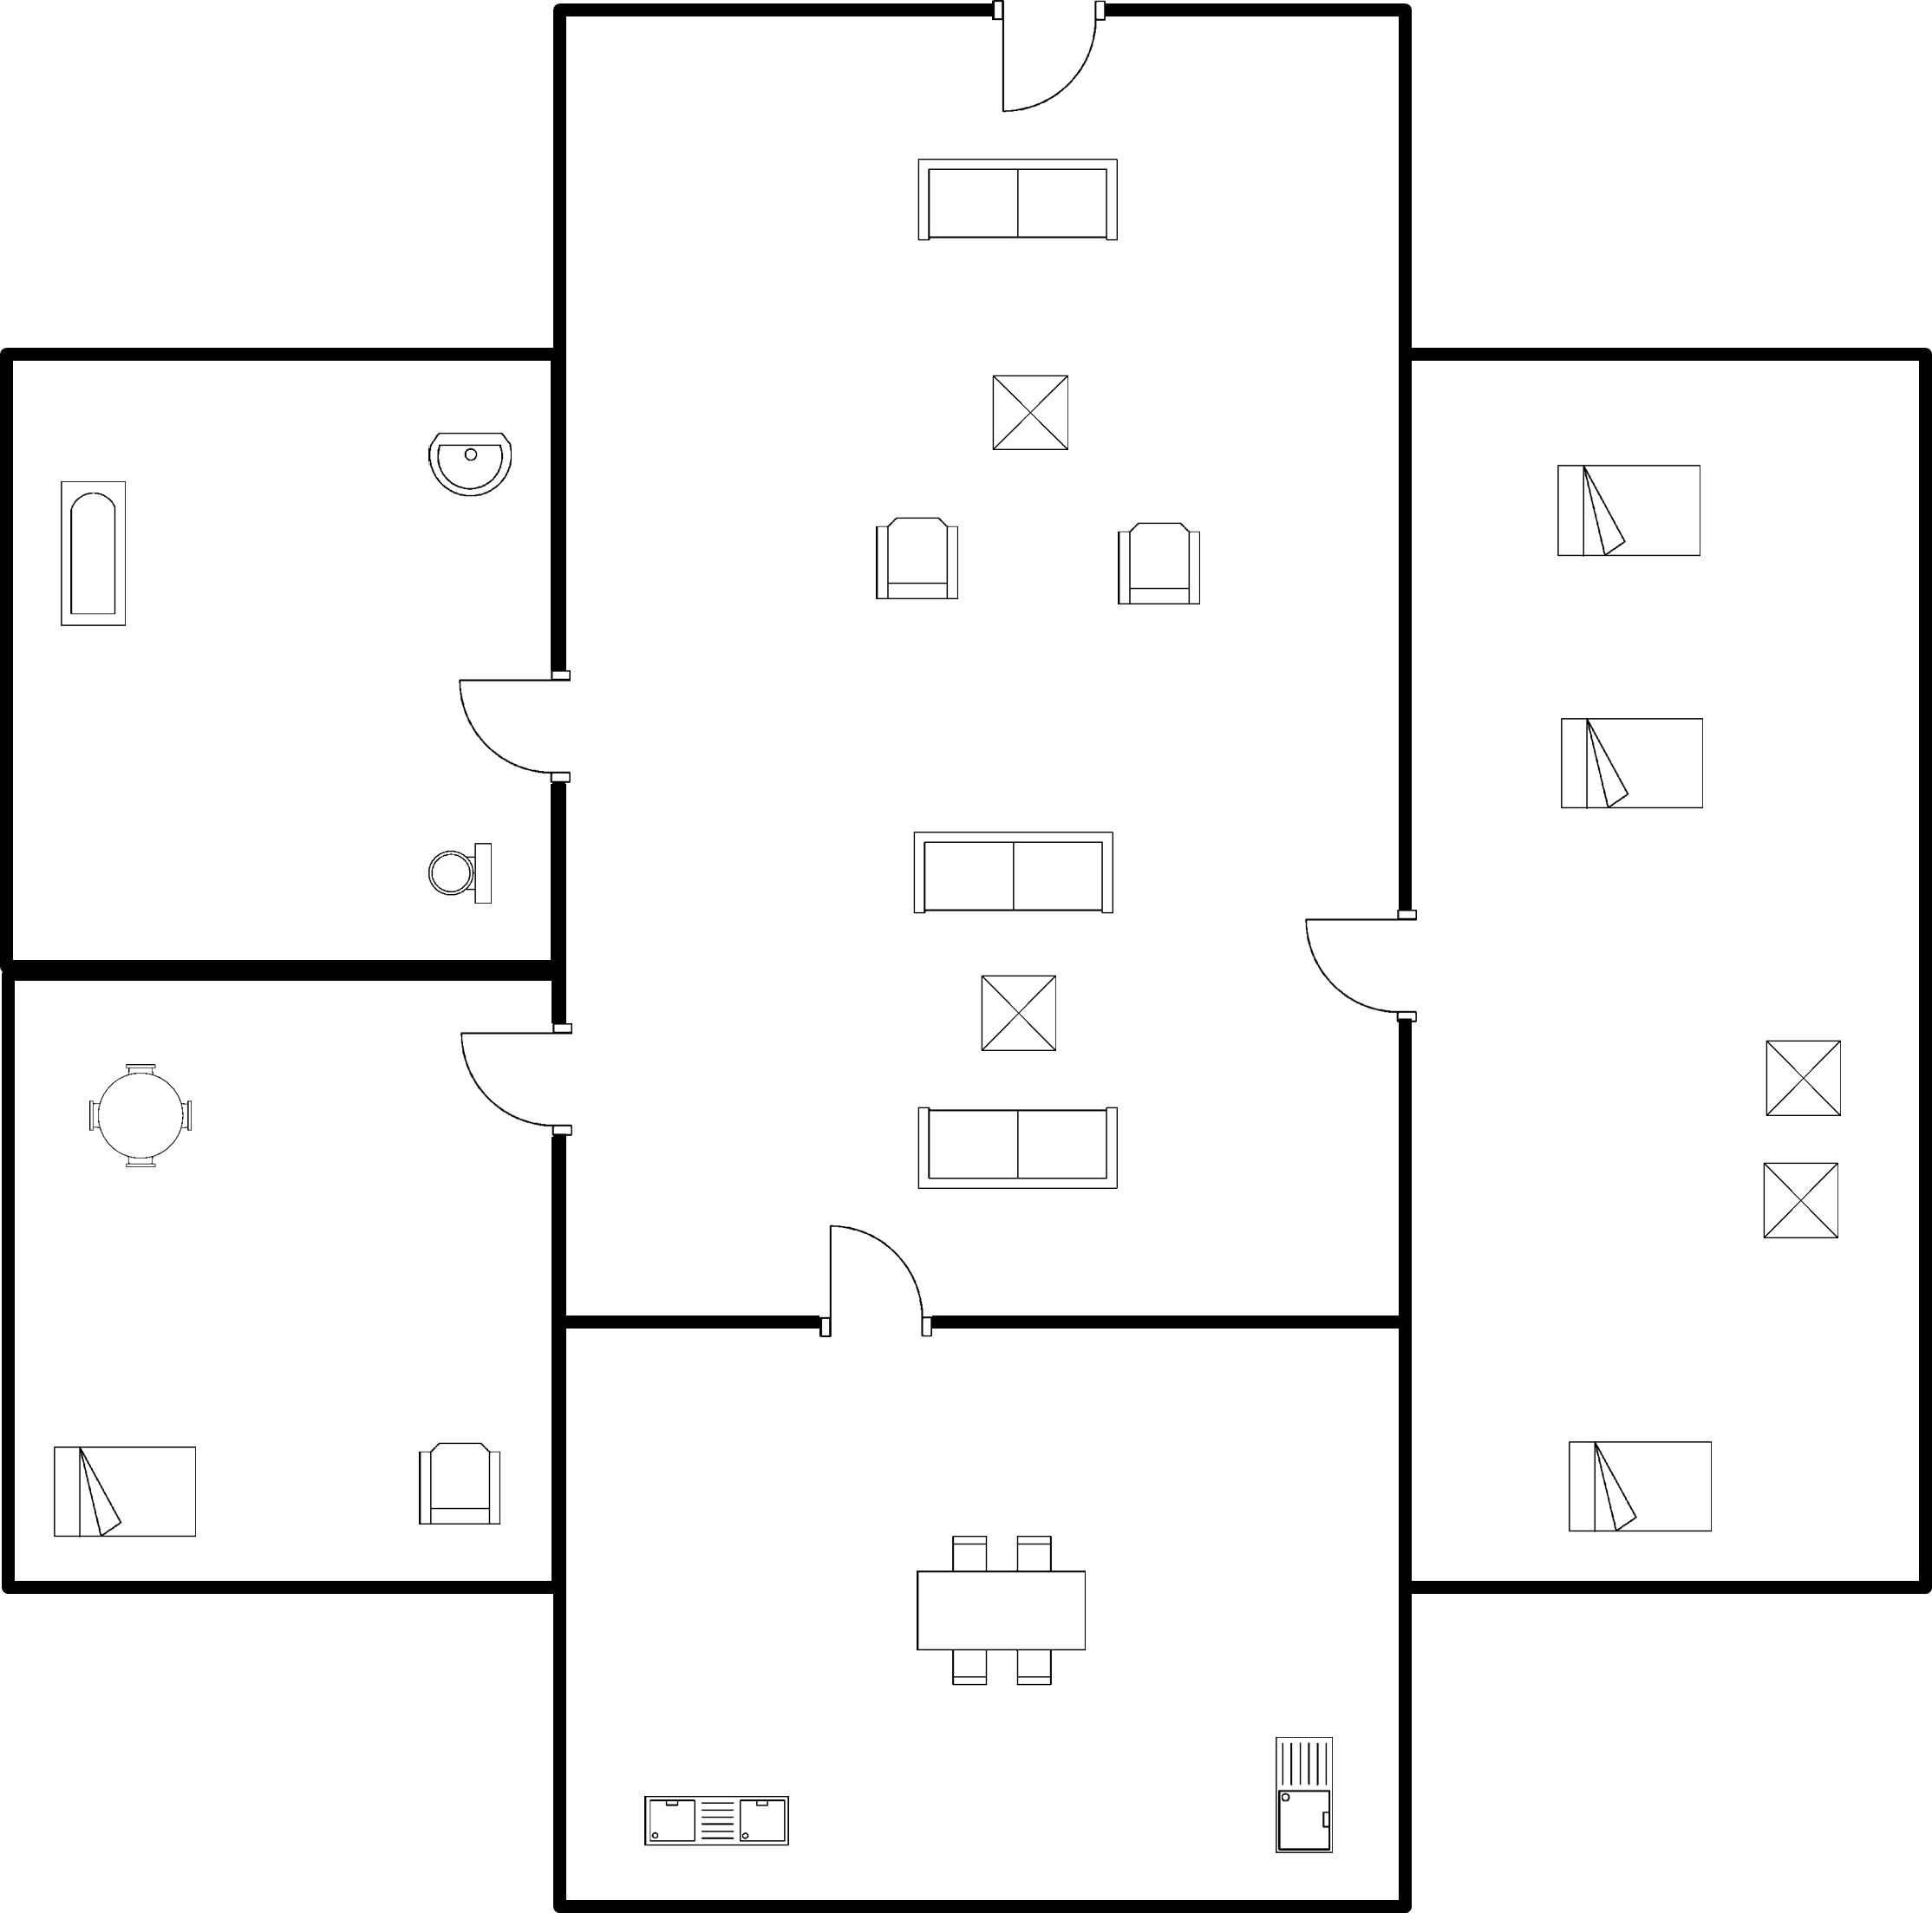armchair: (1106, 510, 1219, 621), (401, 1427, 511, 1537), (865, 504, 970, 615)
bed: (37, 1435, 215, 1551), (1545, 449, 1715, 568), (1553, 1427, 1728, 1541), (1548, 708, 1721, 820)
coffee_table: (1751, 1151, 1860, 1252), (1753, 1026, 1857, 1130), (984, 361, 1084, 464), (969, 963, 1067, 1064)
dining_table: (897, 1520, 1100, 1697)
large_sink: (416, 833, 507, 911)
large_sofa: (899, 817, 1126, 926), (906, 146, 1127, 257), (901, 1098, 1131, 1198)
round_table: (69, 1048, 207, 1186)
sink: (1257, 1726, 1342, 1869)
small_sink: (411, 415, 522, 507)
tub: (49, 472, 134, 636)
twin_sink: (630, 1780, 801, 1865)
